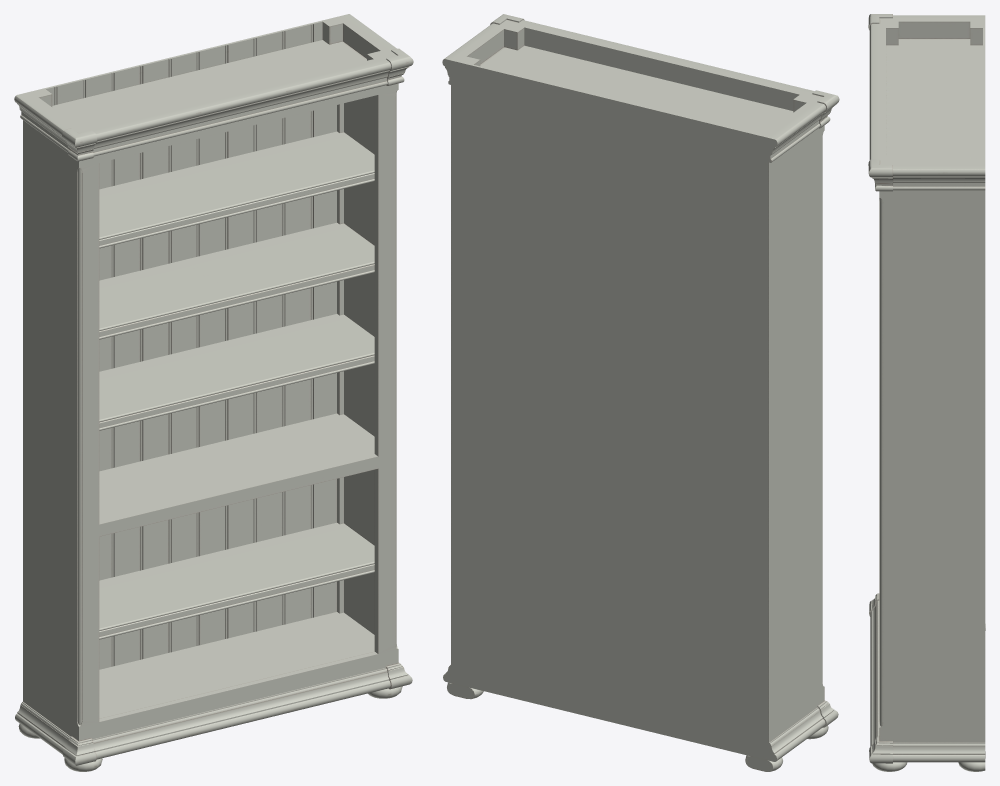
File: example134.gltf
3 views of the same model, side by side, from view 1: azimuth 30°, elevation 25°; view 2: azimuth 150°, elevation 25°; view 3: azimuth 270°, elevation 25° (orthographic). The views are drawn at different scales.
Bounding box in the file's own units: 117 × 210 × 36.85.
1 material, 1 textured.
